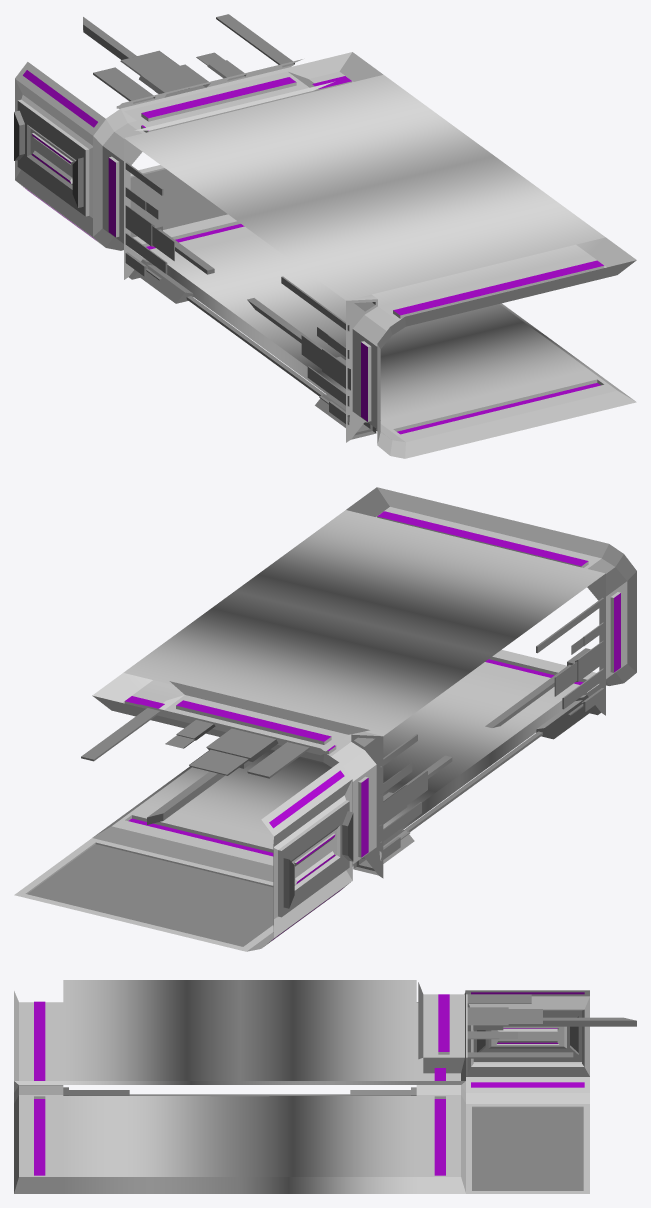
File: estructura2.fbx
The picture shows the model from 3 angles, top to bottom: view 1: azimuth 30°, elevation 25°; view 2: azimuth 150°, elevation 25°; view 3: azimuth 270°, elevation 25°; orthographic projection. The views are drawn at different scales.
Parts seen in each view (by area): view 1: Hull2, Hull, pasted__Hull, Hull3; view 2: Hull2, Hull, pasted__Hull, Hull3; view 3: Hull2, Hull, pasted__Hull, Hull3.
Boxes of the visible parts, left/top/right/bottom form: Hull2: left=235, top=156, right=636, bottom=458; Hull: left=93, top=52, right=493, bottom=352; pasted__Hull: left=14, top=62, right=227, bottom=250; Hull3: left=83, top=14, right=334, bottom=130; Hull2: left=235, top=487, right=636, bottom=788; Hull: left=92, top=591, right=493, bottom=881; pasted__Hull: left=14, top=762, right=353, bottom=951; Hull3: left=81, top=681, right=369, bottom=824; Hull2: left=14, top=980, right=239, bottom=1193; Hull: left=236, top=980, right=465, bottom=1193; pasted__Hull: left=465, top=990, right=589, bottom=1193; Hull3: left=418, top=982, right=636, bottom=1075.
Bounding box in the file's own units: 197 × 104 × 500.
